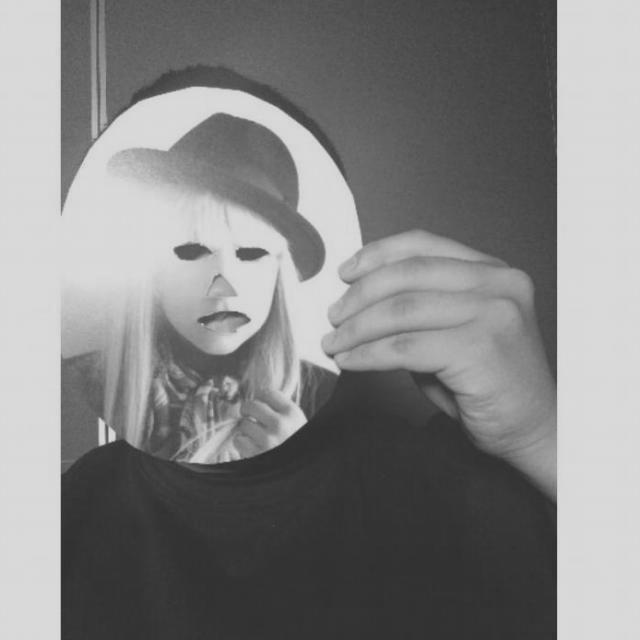fake: (64, 84, 370, 470)
